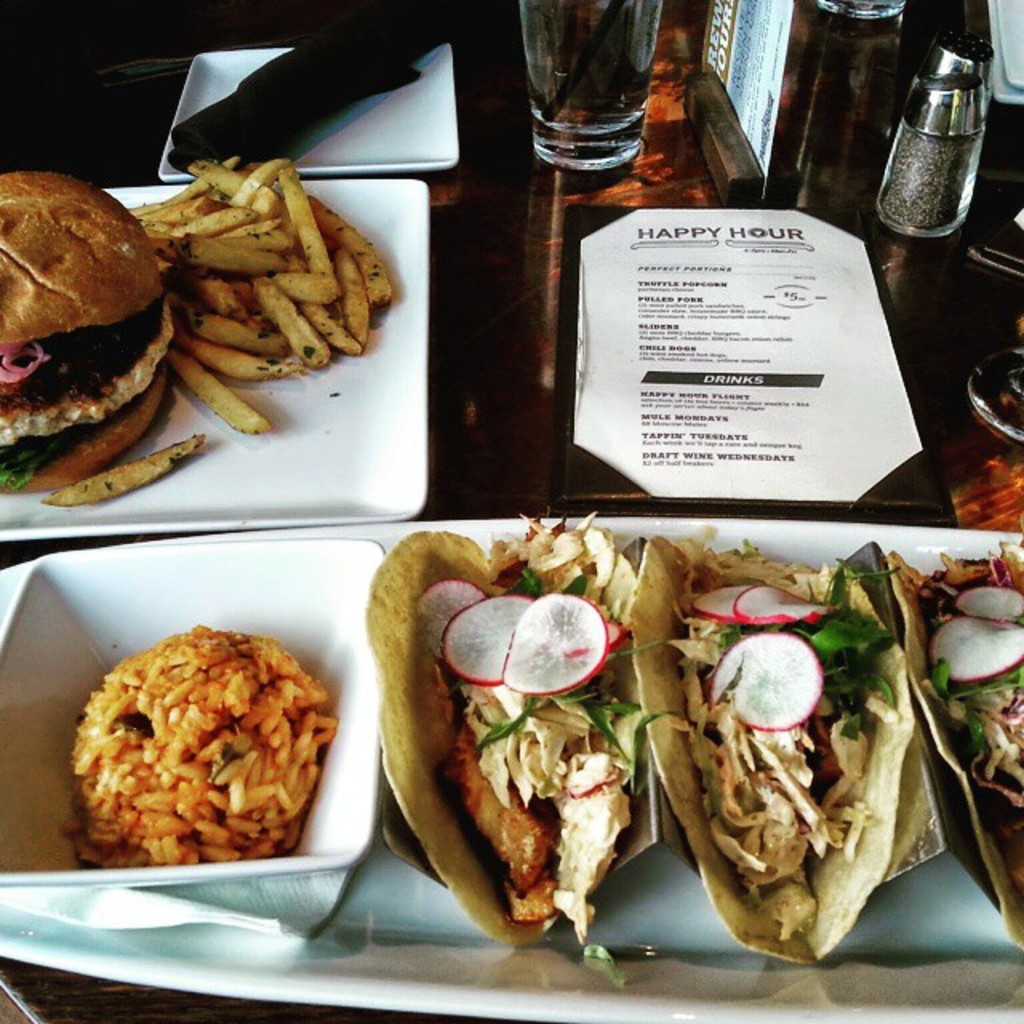taco: (406, 493, 781, 986), (624, 542, 906, 965), (899, 538, 1022, 933)
